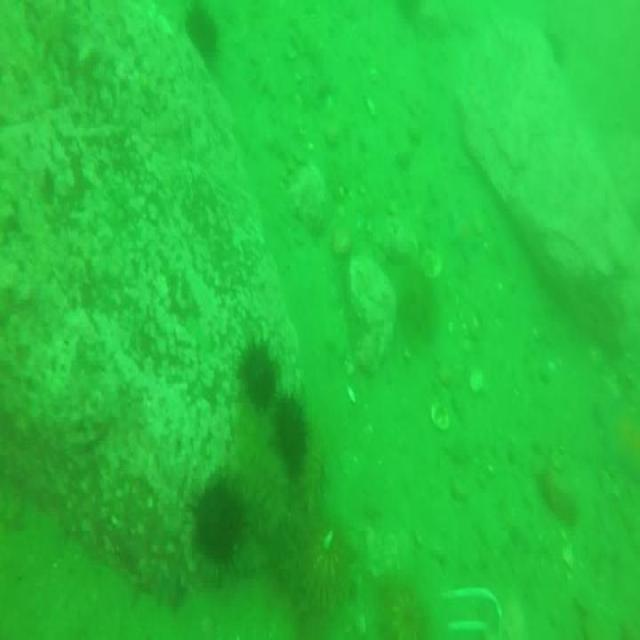echinus: (191, 474, 251, 574), (280, 394, 314, 466), (244, 346, 282, 409), (184, 0, 220, 57)
scallop: (420, 245, 442, 278), (430, 401, 450, 430)
